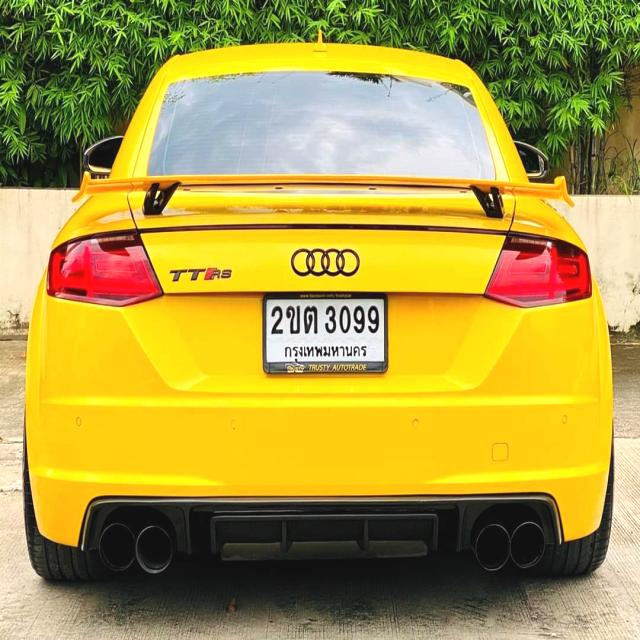license_plate: (261, 288, 390, 374)
